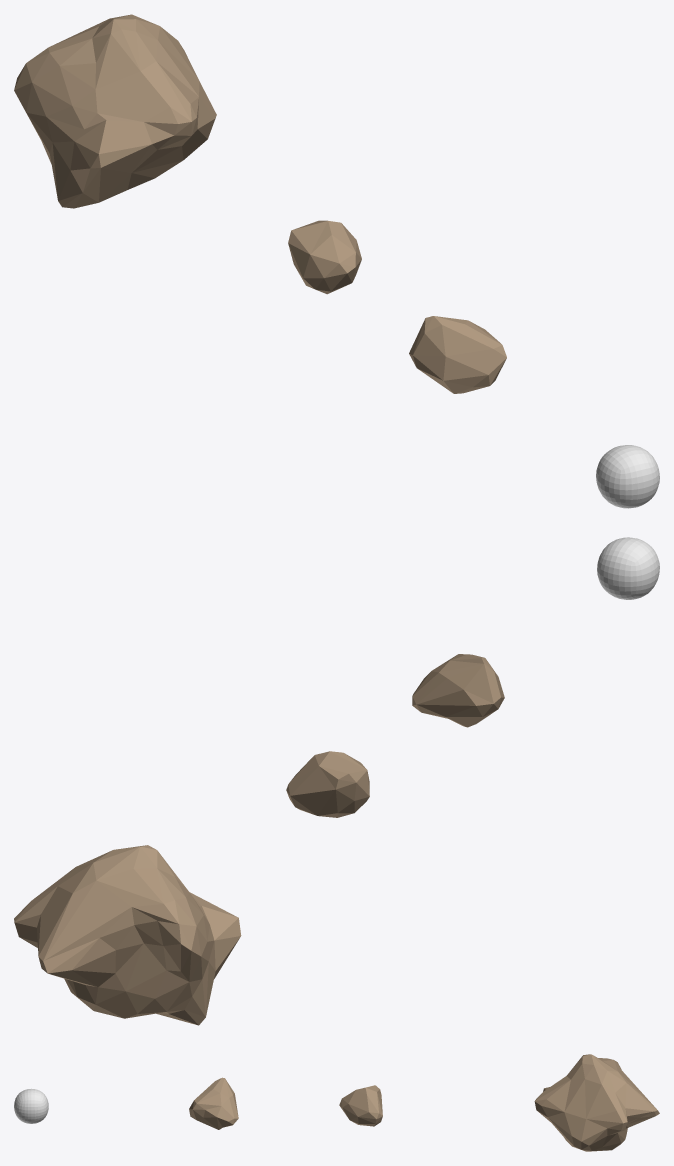
Rendered from asteroids.gltf.
3 views of the same model, one above another, from view 1: azimuth 30°, elevation 25°; view 2: azimuth 150°, elevation 25°; view 3: azimuth 270°, elevation 25° (orthographic). The views are drawn at different scales.
Visible parts, largest first — view 1: asteroid.003, asteroid.002, asteroid.001, base_sphere; view 2: asteroid.003, asteroid.002, asteroid.001, base_sphere; view 3: asteroid.003, asteroid.002, asteroid.001, base_sphere.
Boxes of the visible parts, x1=… form: asteroid.003: x1=14, y1=14, x2=216, y2=208; asteroid.002: x1=409, y1=316, x2=506, y2=393; asteroid.001: x1=288, y1=220, x2=361, y2=294; base_sphere: x1=596, y1=445, x2=659, y2=508; asteroid.003: x1=14, y1=845, x2=241, y2=1025; asteroid.002: x1=412, y1=654, x2=504, y2=727; asteroid.001: x1=286, y1=751, x2=369, y2=817; base_sphere: x1=597, y1=537, x2=659, y2=599; asteroid.003: x1=534, y1=1054, x2=659, y2=1151; asteroid.002: x1=189, y1=1077, x2=238, y2=1129; asteroid.001: x1=339, y1=1085, x2=382, y2=1126; base_sphere: x1=14, y1=1088, x2=48, y2=1123.
Size of the model in its own units: 5.41 by 5.11 by 31.16.
Materials: 1 (1 with a texture image).
